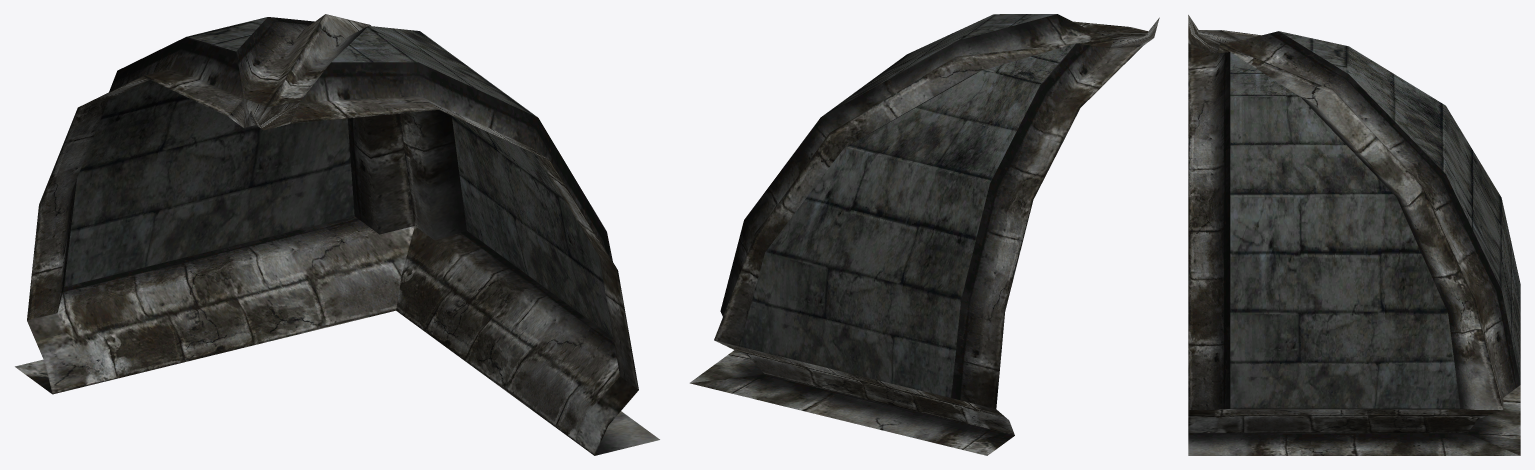
Rendered from ceiling_corner_concave_short_alt.dae.
3 views of the same model, side by side, from view 1: azimuth 30°, elevation 25°; view 2: azimuth 150°, elevation 25°; view 3: azimuth 270°, elevation 25° (orthographic). The views are drawn at different scales.
Visible parts, largest first — view 1: polySurface1; view 2: polySurface1; view 3: polySurface1.
Part boxes in pixels (left/top/right/bottom): polySurface1: left=15, top=14, right=659, bottom=455; polySurface1: left=689, top=14, right=1159, bottom=455; polySurface1: left=1188, top=15, right=1520, bottom=455.
Bounding box in the file's own units: 2 × 2 × 2.
